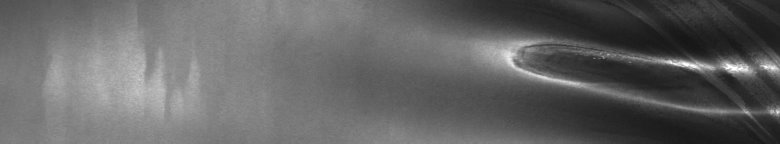ke: (485, 4, 776, 136)
